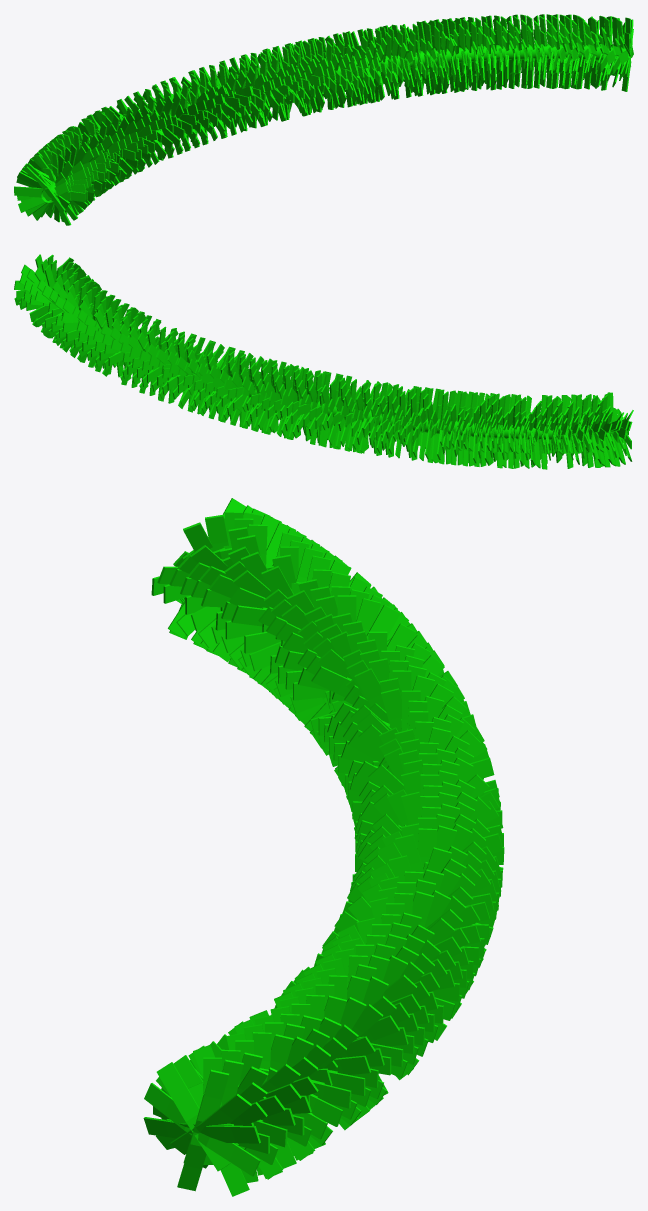
File: kerst slinger gROEN 1.fbx
3 renders of one model, top to bottom at view 1: azimuth 30°, elevation 25°; view 2: azimuth 150°, elevation 25°; view 3: azimuth 270°, elevation 25°, orthographic. The views are drawn at different scales.
Parts seen in each view (by area): view 1: BézierCurve, BézierCurve|Plane|Dupli|18, BézierCurve|Plane|Dupli|3, BézierCurve|Plane|Dupli|10; view 2: BézierCurve; view 3: BézierCurve|Plane|Dupli|955, BézierCurve|Plane|Dupli|947, BézierCurve|Plane|Dupli|975, BézierCurve|Plane|Dupli|951, BézierCurve|Plane|Dupli|971.
Boxes of the visible parts, <box> form: BézierCurve: <box>41,44,626,202</box>; BézierCurve|Plane|Dupli|18: <box>18,182,68,212</box>; BézierCurve|Plane|Dupli|3: <box>23,166,65,212</box>; BézierCurve|Plane|Dupli|10: <box>29,187,85,202</box>; BézierCurve: <box>186,372,628,439</box>; BézierCurve|Plane|Dupli|955: <box>156,1062,230,1171</box>; BézierCurve|Plane|Dupli|947: <box>170,1093,251,1154</box>; BézierCurve|Plane|Dupli|975: <box>191,1132,260,1176</box>; BézierCurve|Plane|Dupli|951: <box>183,1069,228,1162</box>; BézierCurve|Plane|Dupli|971: <box>177,1093,206,1191</box>.
Size of the model in its own units: 273 by 28.54 by 69.12.
